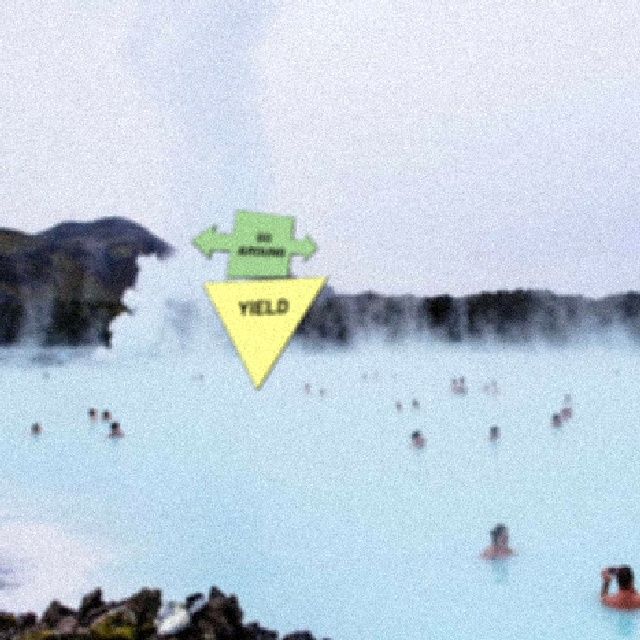GO_AROUND: (189, 208, 317, 277)
YIELD: (200, 275, 328, 390)
